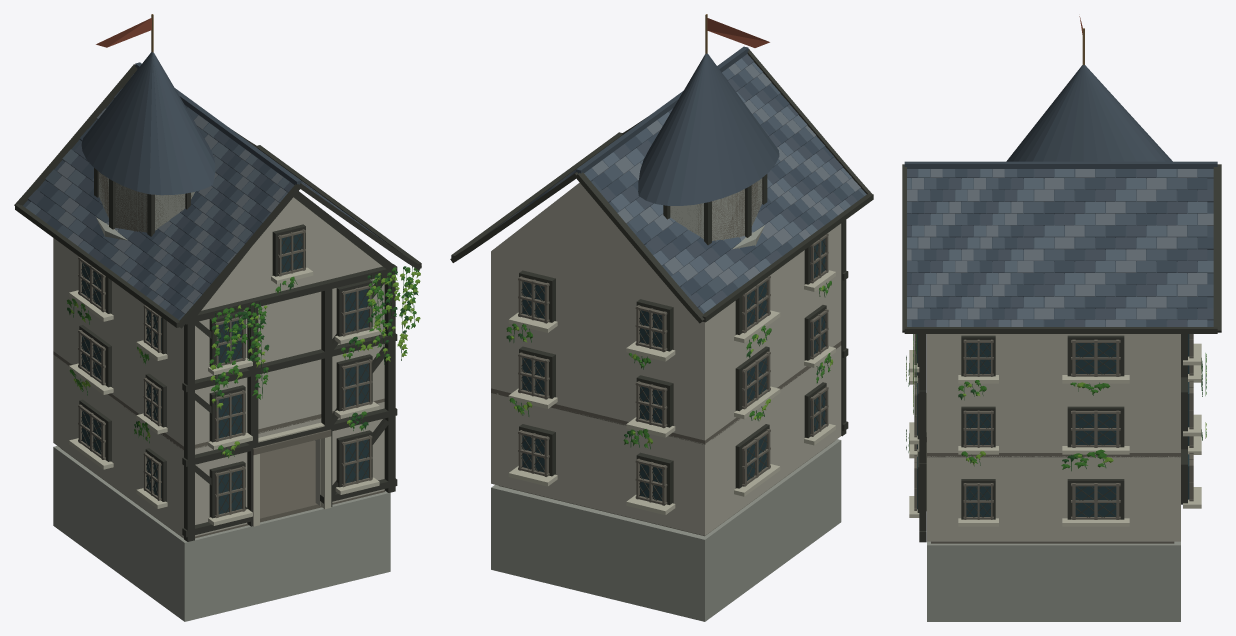
The model's file is guildhall.glb.
The picture shows the model from 3 angles, left to right: view 1: azimuth 30°, elevation 25°; view 2: azimuth 150°, elevation 25°; view 3: azimuth 270°, elevation 25°; orthographic projection. The views are drawn at different scales.
Parts seen in each view (by area): view 1: guildhall; view 2: guildhall; view 3: guildhall.
Part boxes in pixels (x1,y1,x2,y2): guildhall: [14, 14, 421, 621]; guildhall: [450, 14, 873, 621]; guildhall: [902, 16, 1221, 621].
Bounding box in the file's own units: 9.43 × 19.4 × 10.81.
